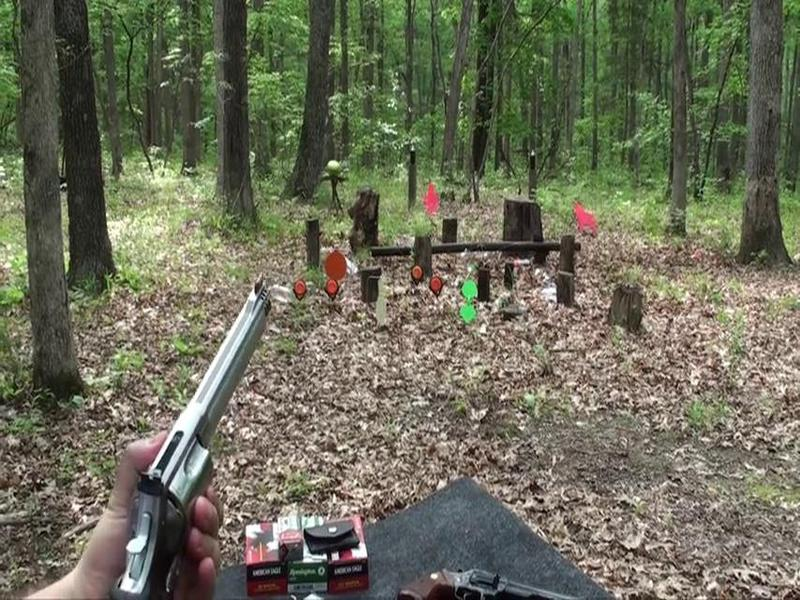Revolver: (86, 274, 297, 600)
